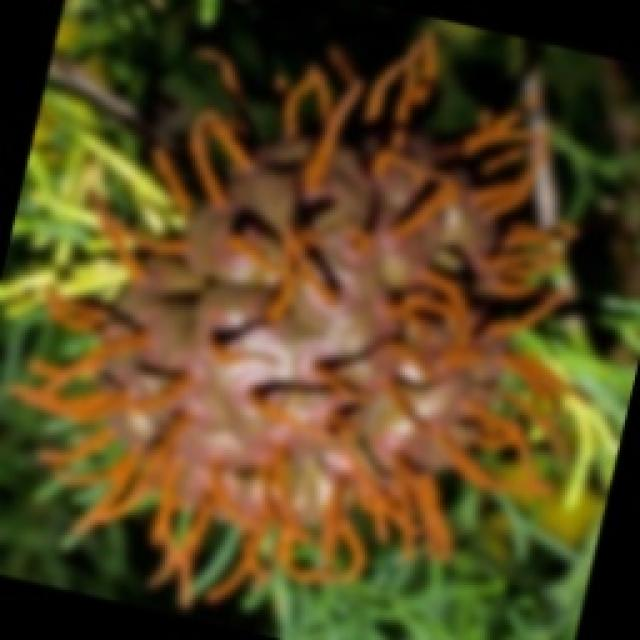Gymnosporangium_Rusts: (10, 25, 598, 613)
